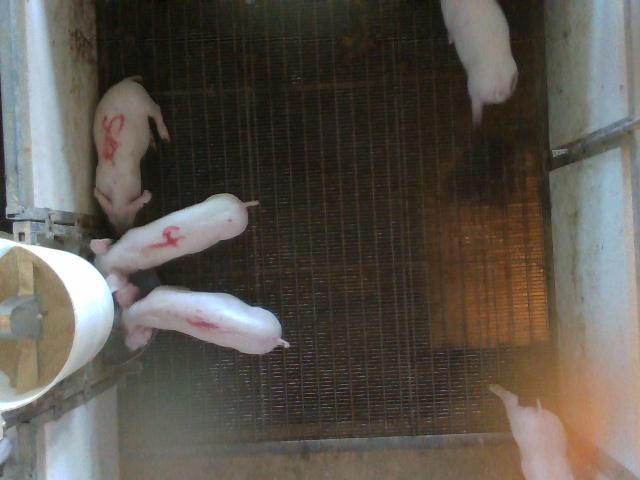pig-1: (114, 282, 289, 353)
pig-4: (91, 194, 258, 291)
pig-5: (94, 76, 170, 234)
